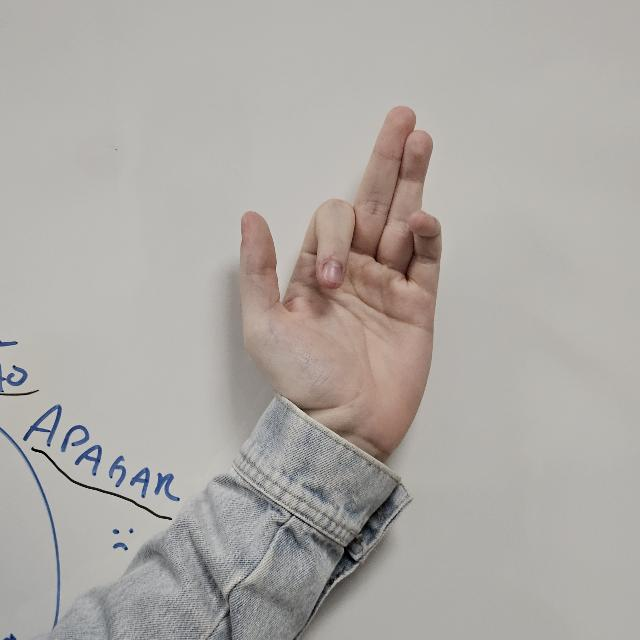R: (228, 106, 444, 458)
